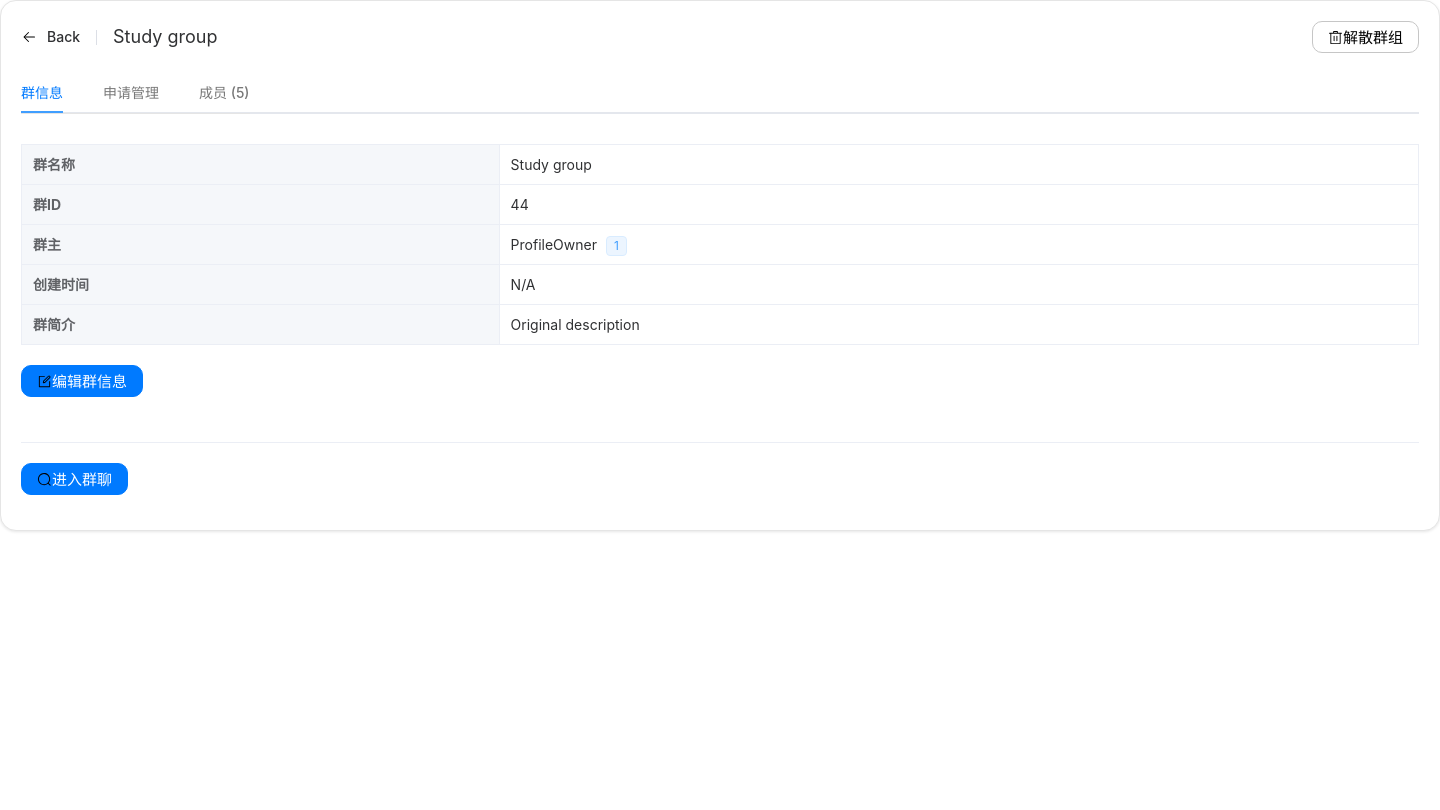
Test: group detail API contracts › reads owner and applicant profiles from the backend UserWithStats envelope
expect the element with class "group-info-desc" shows "ProfileOwner": met, box [511, 236, 601, 253]
Click the tab "申请管理".
click(131, 93)  # box [103, 84, 159, 101]
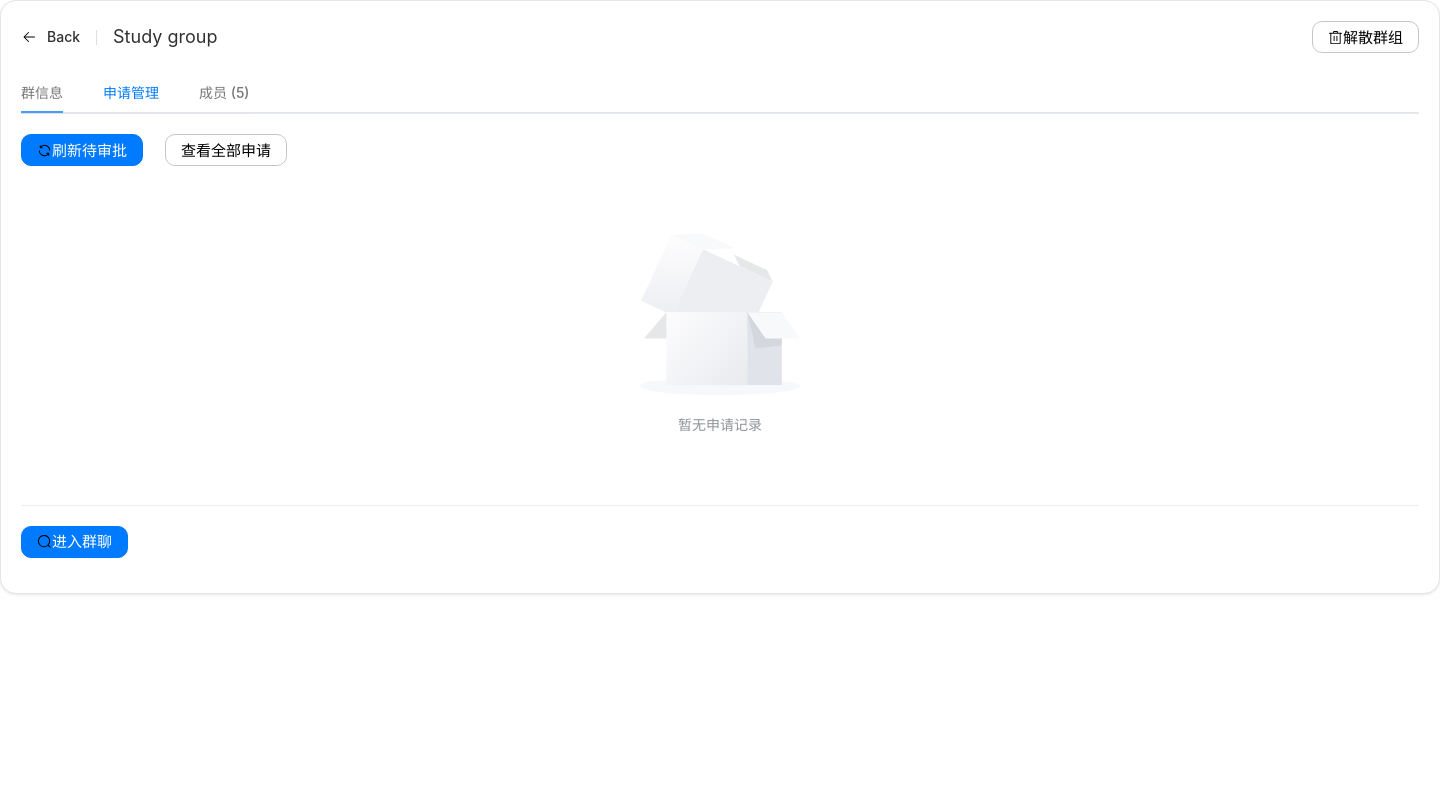
Click the button "刷新待审批".
click(82, 150)  # box [21, 134, 143, 166]
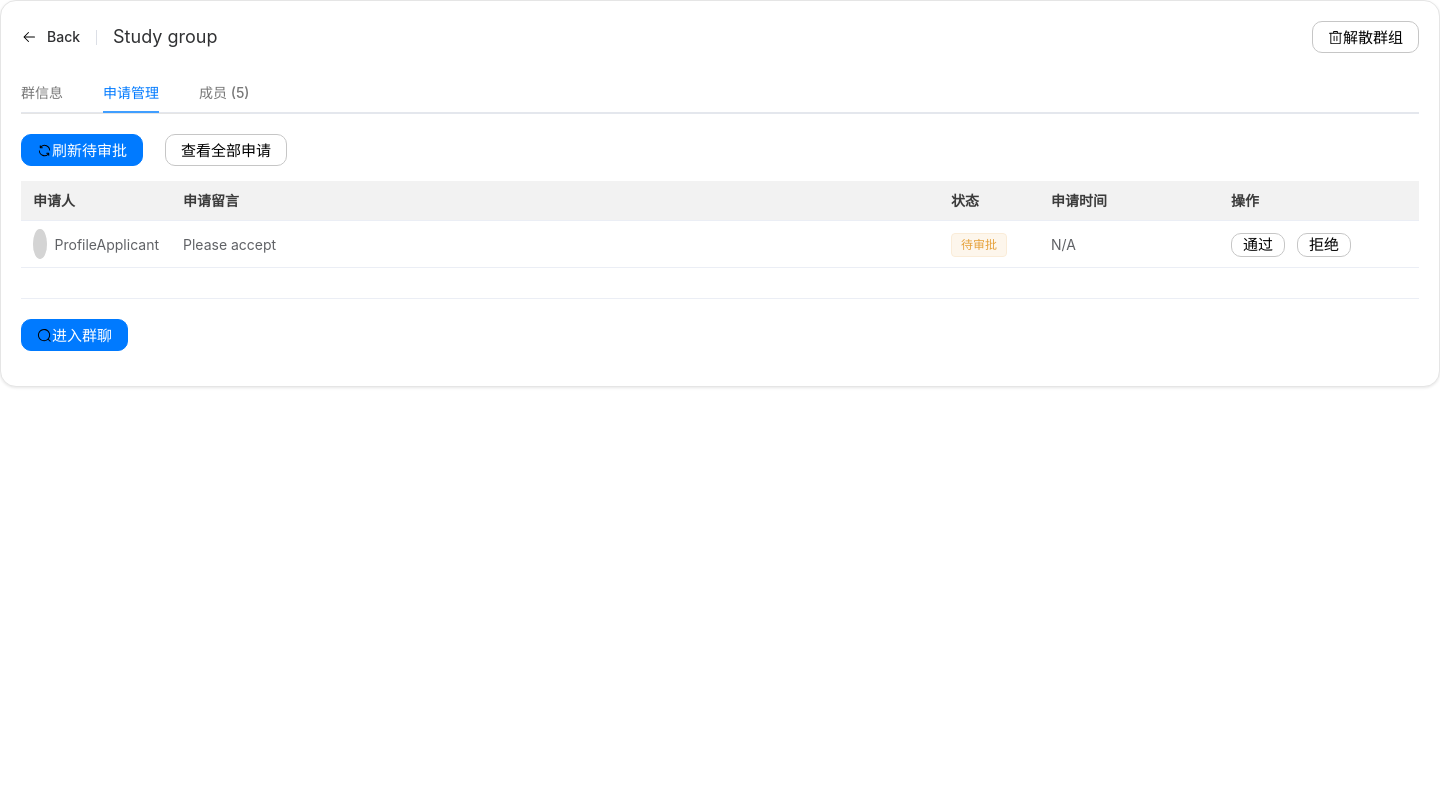
expect the element with class "applications-table" shows "ProfileApplicant": met, box [54, 236, 159, 252]
